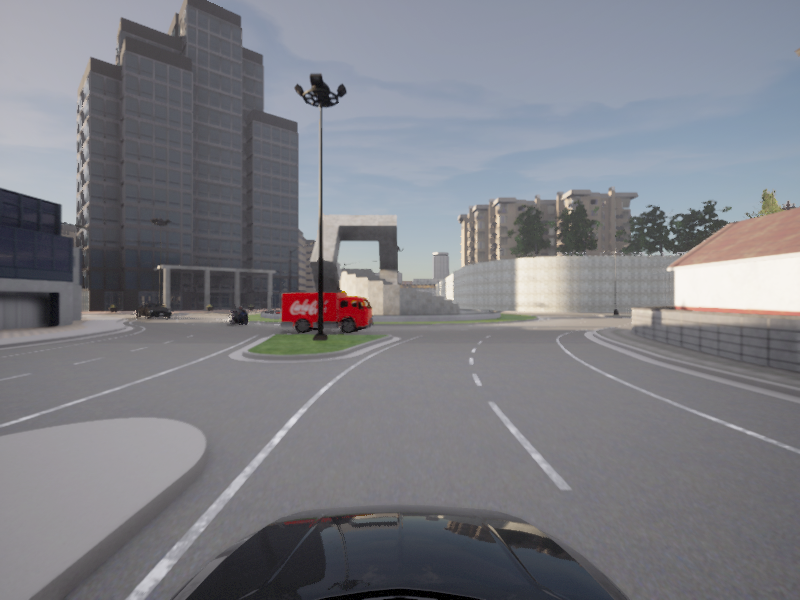vehicle: (278, 291, 374, 335), (134, 303, 173, 320), (225, 306, 253, 327)
